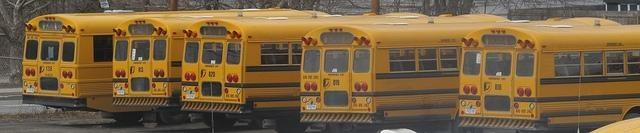bus: (180, 12, 506, 133), (111, 10, 420, 108), (21, 10, 292, 111), (300, 23, 490, 126), (459, 23, 640, 131)
